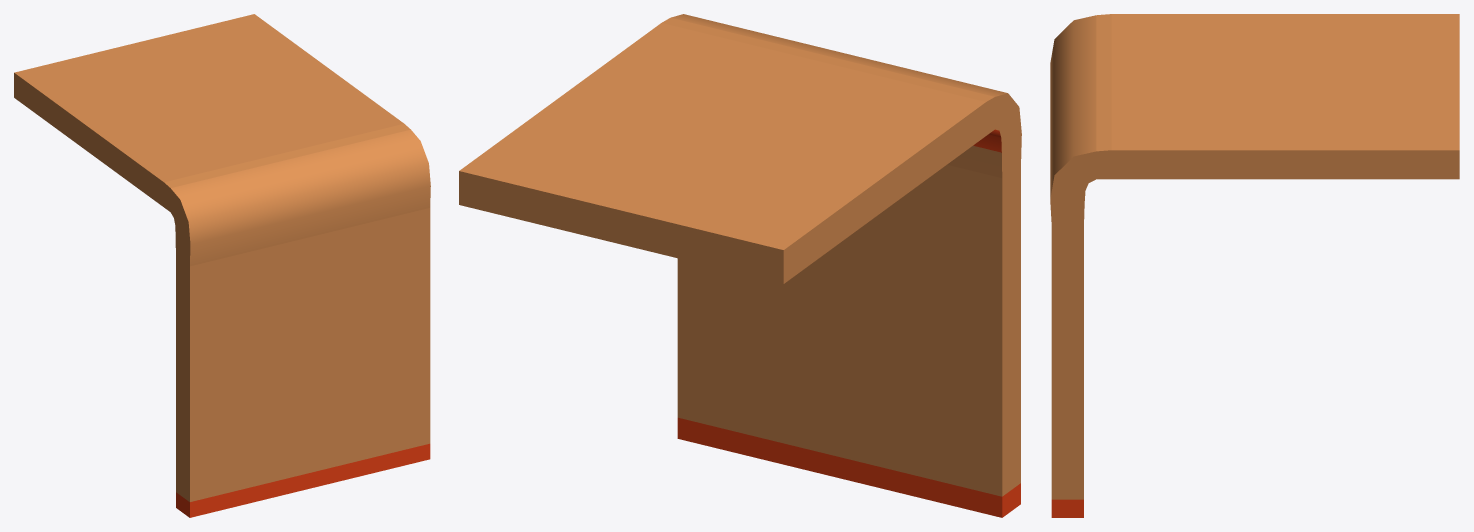
File: ExteriorWall.fbx
The picture shows the model from 3 angles, left to right: view 1: azimuth 30°, elevation 25°; view 2: azimuth 150°, elevation 25°; view 3: azimuth 270°, elevation 25°; orthographic projection. The views are drawn at different scales.
Parts seen in each view (by area): view 1: ExteriorWall; view 2: ExteriorWall; view 3: ExteriorWall.
Part boxes in pixels (x1,y1,x2,y2): ExteriorWall: (14, 14, 430, 517); ExteriorWall: (459, 14, 1021, 517); ExteriorWall: (1050, 14, 1459, 517).
Size of the model in its own units: 2.5 by 3.15 by 3.18.
